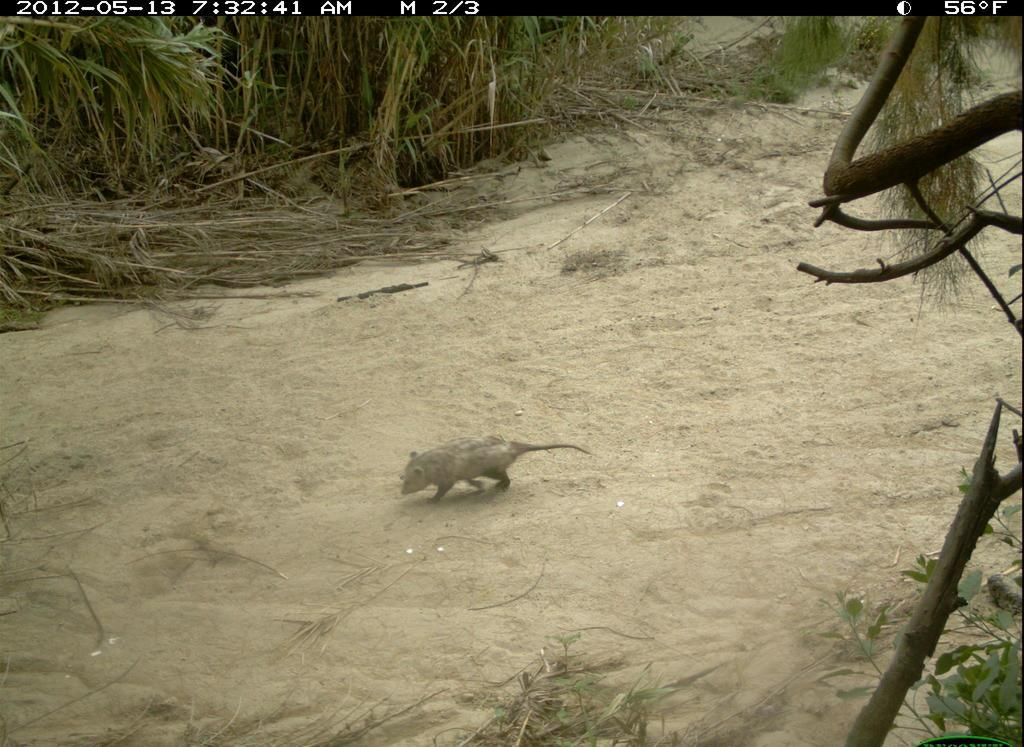opossum: (387, 432, 611, 514)
